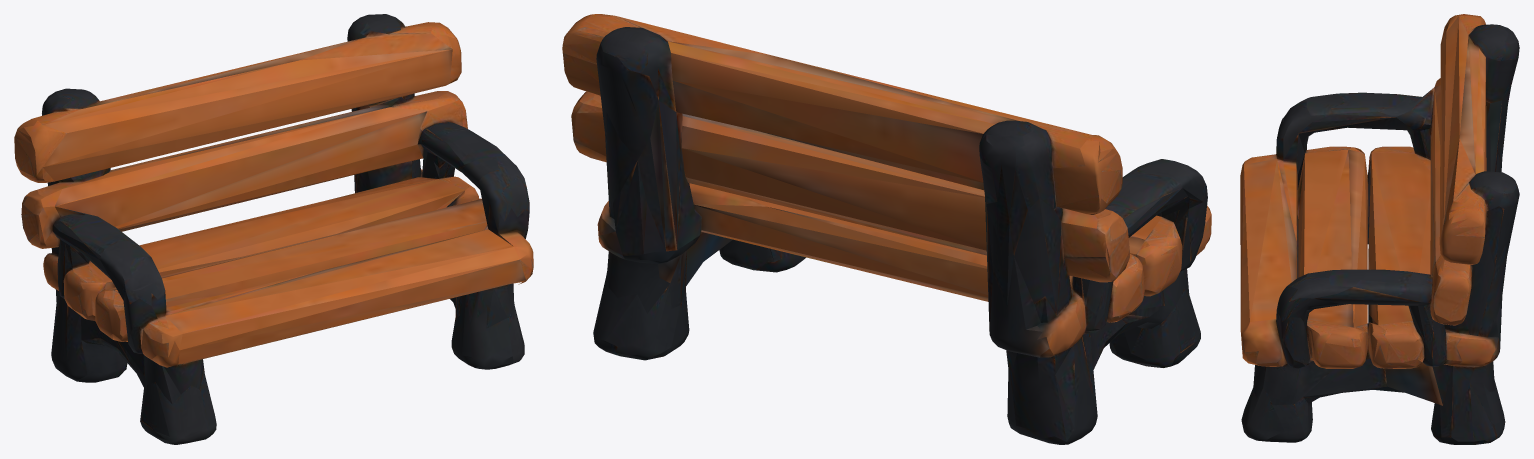
The model's file is skate-baenk.glb.
The picture shows the model from 3 angles, left to right: view 1: azimuth 30°, elevation 25°; view 2: azimuth 150°, elevation 25°; view 3: azimuth 270°, elevation 25°; orthographic projection. The views are drawn at different scales.
Size of the model in its own units: 1.9 by 1.1 by 1.09.
Materials: 1 (1 with a texture image).
